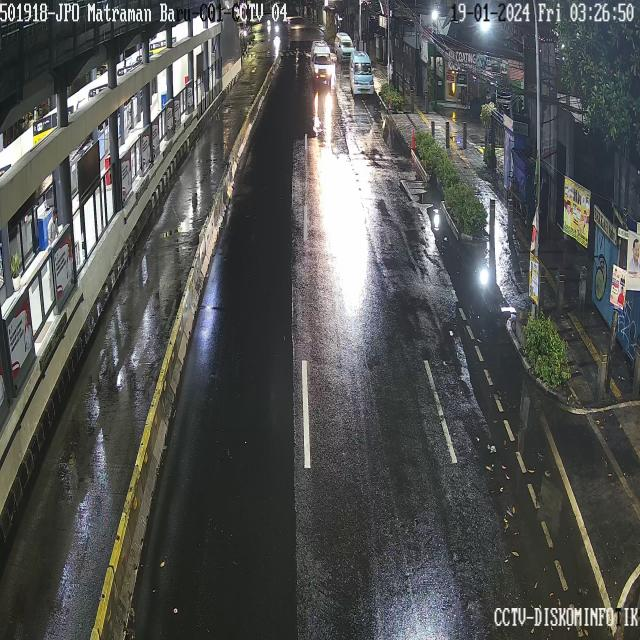Terpal: (504, 136, 523, 191)
